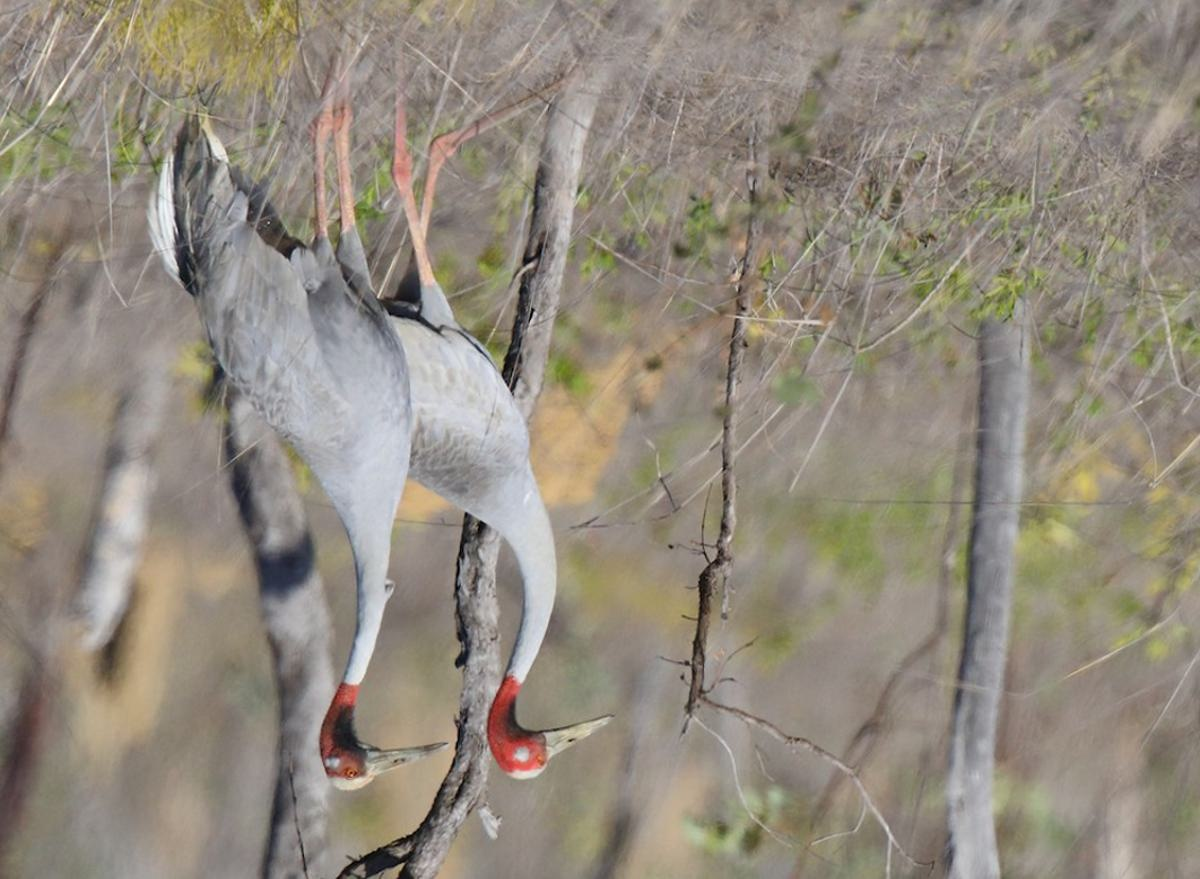crane: (156, 97, 461, 810), (403, 134, 640, 777)
